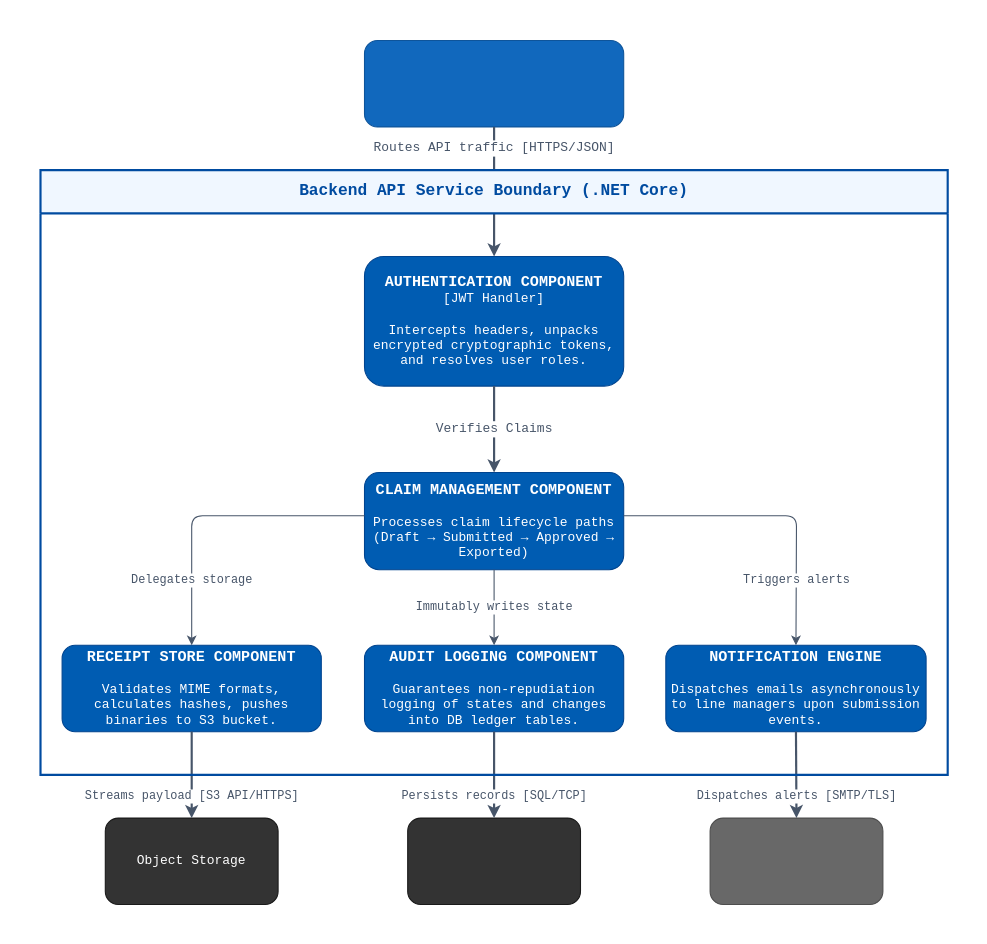
This 987x944 diagram has some shape labels left out. Here are the shapes that lost their labels. From the top down, the centre of each, then its label:
At pixel 493 83: "WEB APPLICATION [Container: React] Triggers API requests via HTTPS".
At pixel 493 861: "SQL Database".
At pixel 796 861: "SMTP Server".
